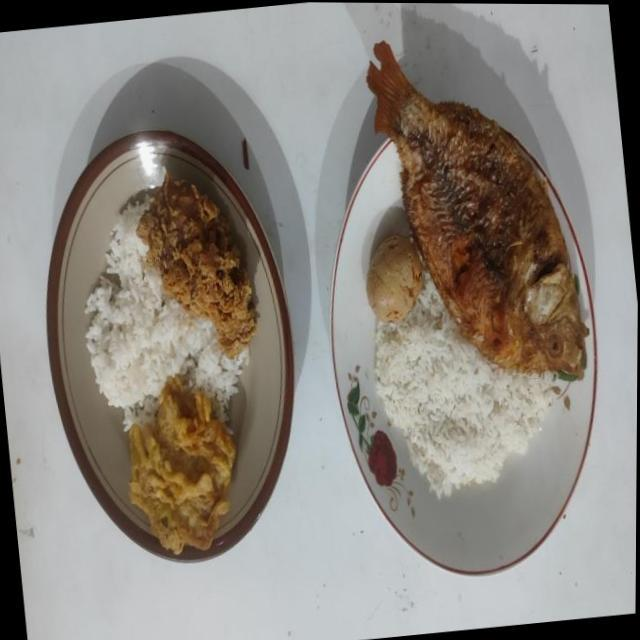ikan_mujair: (366, 41, 585, 378)
nasi_putih: (374, 272, 555, 498), (84, 202, 249, 430)
